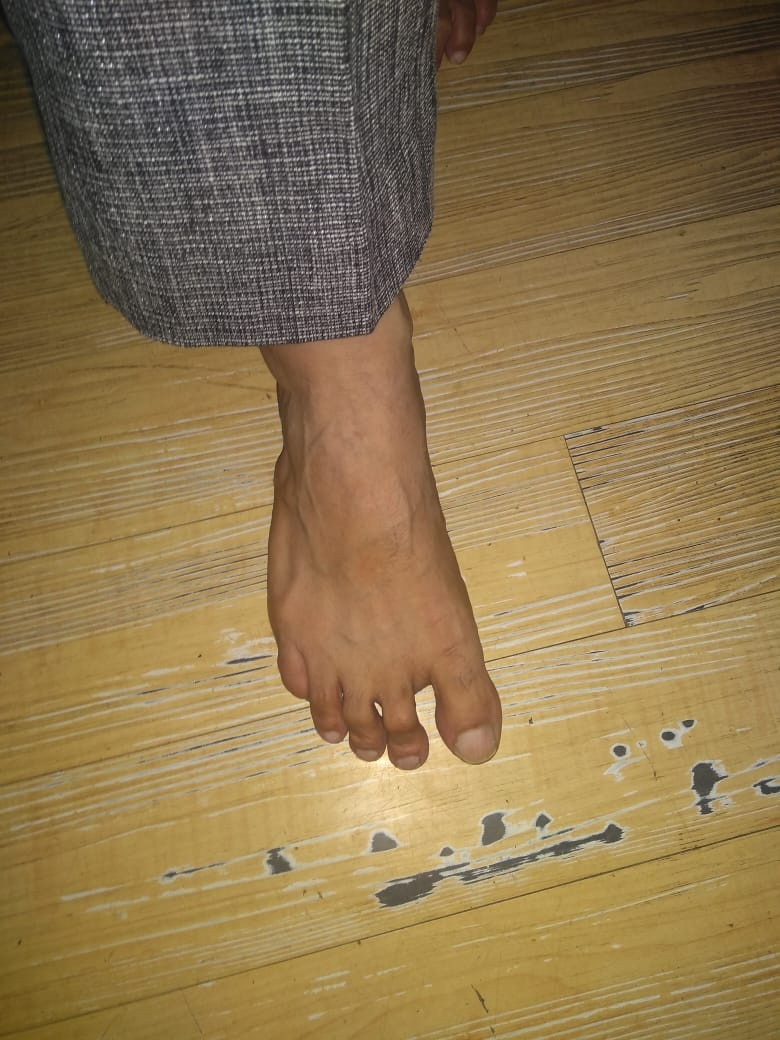feet: (200, 298, 510, 771)
